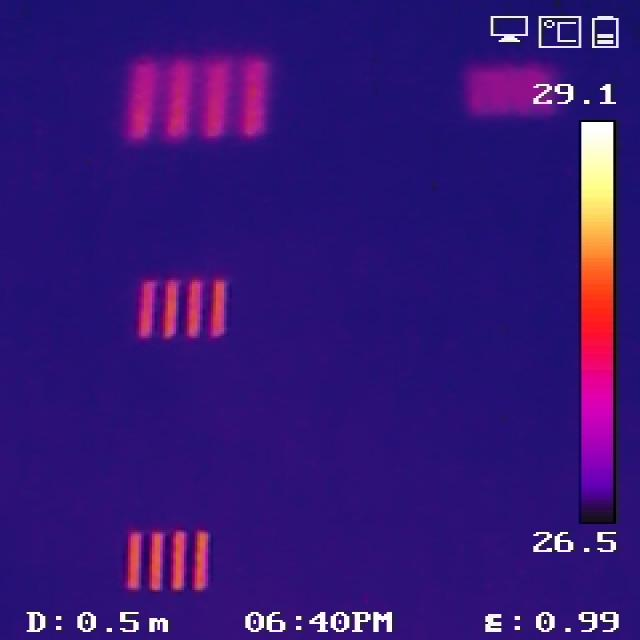Distinguishable 4-bar target: (122, 53, 266, 144), (126, 274, 242, 346), (118, 525, 214, 592)
Indistinguishable 4-bar target: (467, 66, 549, 112)
